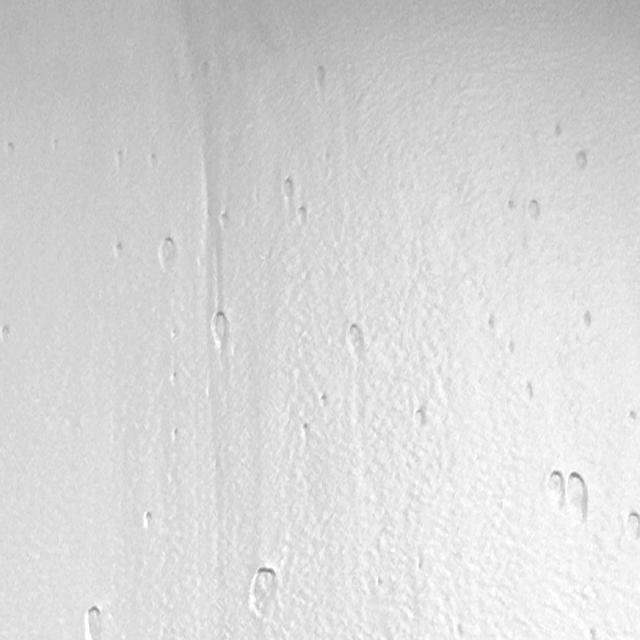pin holes: (246, 563, 281, 621), (564, 468, 593, 526), (208, 309, 233, 349), (81, 603, 107, 640), (342, 320, 367, 356), (545, 469, 568, 506), (158, 236, 181, 271), (622, 511, 640, 543), (571, 149, 591, 175), (312, 63, 330, 91), (408, 405, 428, 430), (524, 198, 542, 225), (279, 176, 296, 203), (577, 309, 596, 333), (138, 508, 155, 532), (520, 379, 536, 404), (143, 152, 161, 174), (549, 122, 566, 144), (196, 58, 212, 80), (299, 422, 314, 444), (294, 206, 308, 229), (623, 406, 637, 426), (112, 240, 126, 259), (482, 312, 496, 331), (315, 393, 330, 410), (218, 210, 230, 230), (454, 622, 467, 640), (113, 150, 125, 169), (168, 428, 180, 446), (2, 325, 13, 343), (49, 136, 61, 152), (4, 140, 15, 157), (504, 199, 516, 213)
